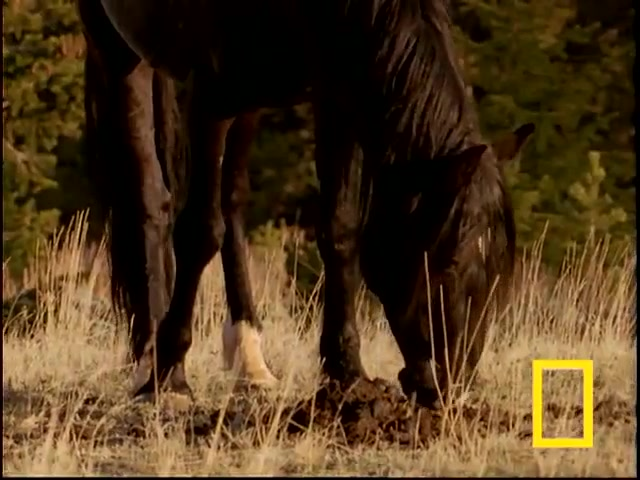horse: (78, 2, 519, 413)
